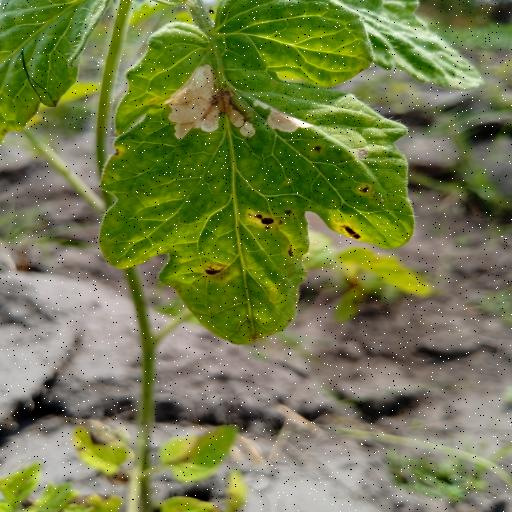Tomato_Brown_Spots: (94, 0, 422, 346)
